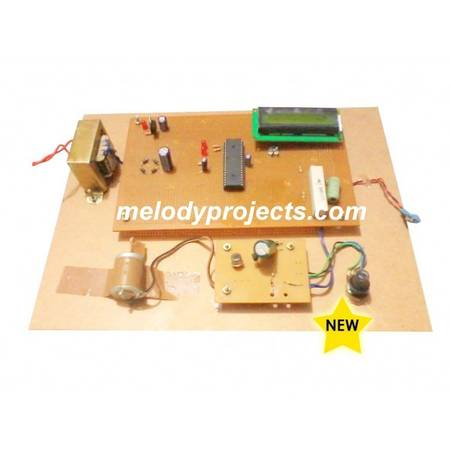capacitor: (253, 238, 276, 257), (158, 146, 174, 172), (158, 116, 168, 131), (200, 157, 207, 171), (245, 154, 251, 166)
